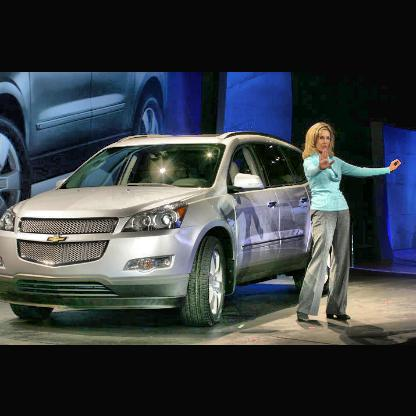Chevrolet Traverse SUV 2012: (2, 129, 349, 321)
